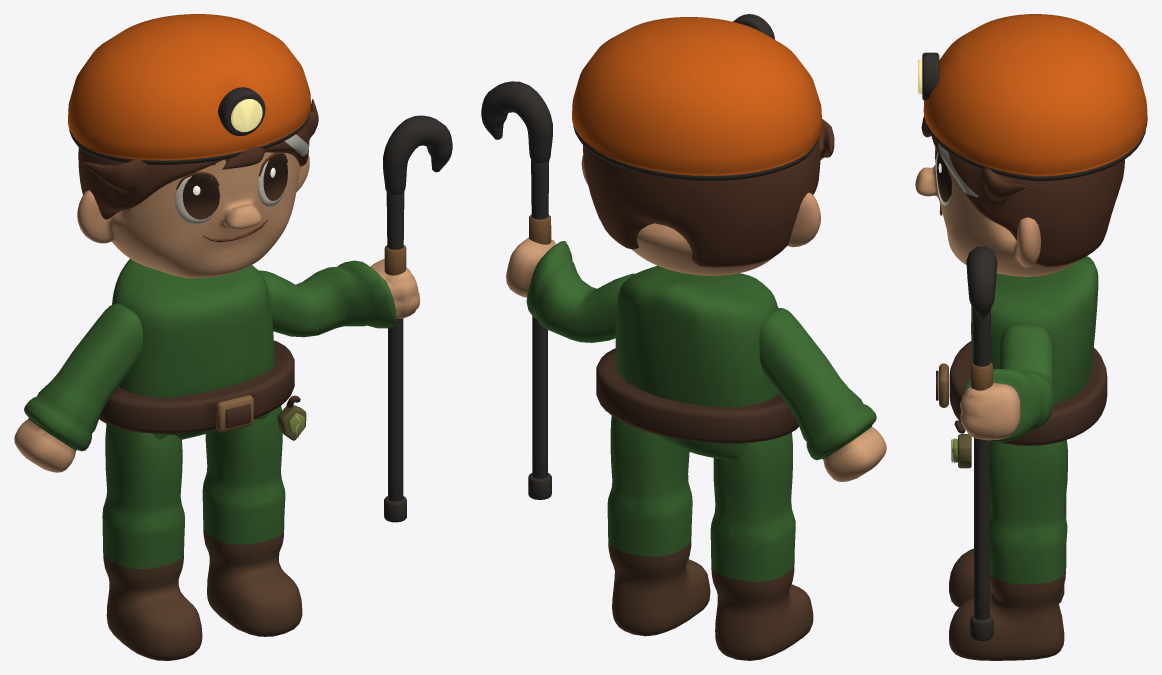
File: PIP_GREEN.hi.glb
3 views of the same model, side by side, from view 1: azimuth 30°, elevation 25°; view 2: azimuth 150°, elevation 25°; view 3: azimuth 270°, elevation 25° (orthographic). The views are drawn at different scales.
Parts seen in each view (by area): view 1: body (×2), legL, armR, legR, armL; view 2: body, legL, legR, armR, armL; view 3: body, legR, armR, legL.
Boxes of the visible parts, left/top/right/bottom form: body (×2): left=67, top=14, right=318, bottom=440; legL: left=102, top=424, right=202, bottom=660; armR: left=258, top=115, right=452, bottom=522; legR: left=202, top=405, right=302, bottom=636; armL: left=14, top=303, right=142, bottom=472; body: left=572, top=14, right=834, bottom=459; legL: left=710, top=432, right=813, bottom=660; legR: left=607, top=416, right=710, bottom=636; armR: left=481, top=81, right=635, bottom=499; armL: left=759, top=308, right=886, bottom=481; body: left=915, top=14, right=1147, bottom=468; legR: left=949, top=440, right=1067, bottom=660; armR: left=960, top=246, right=1053, bottom=640; legL: left=949, top=496, right=1066, bottom=607.
Size of the model in its own units: 0.7217 by 1 by 0.3544.
